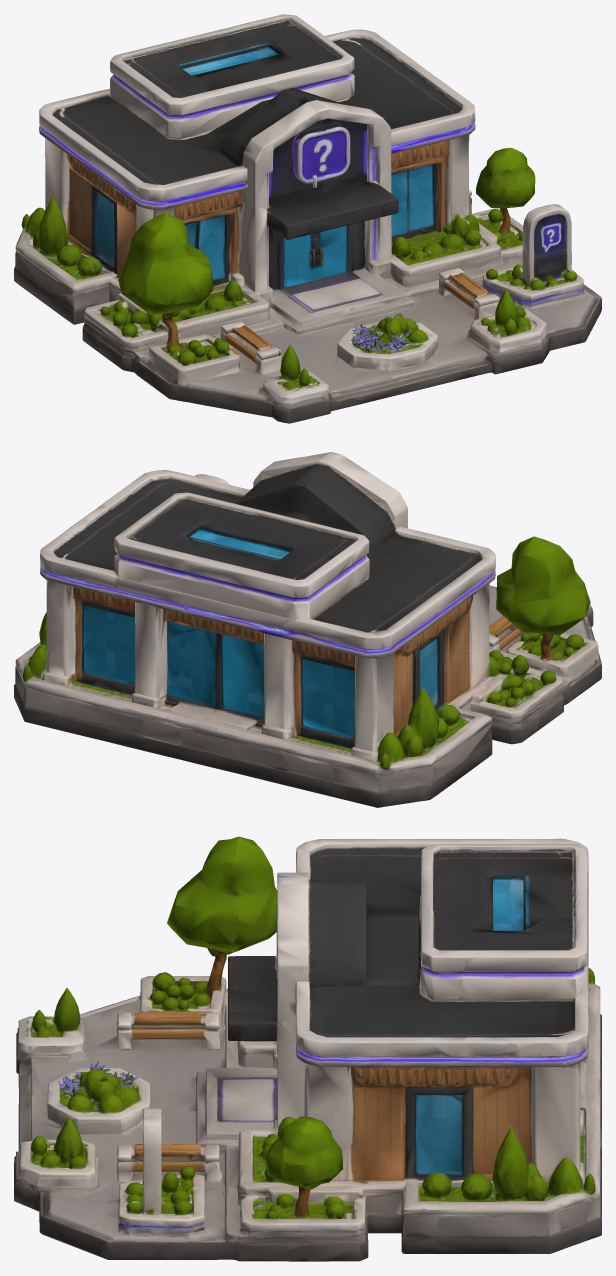
Rendered from question-hub.glb.
The picture shows the model from 3 angles, top to bottom: view 1: azimuth 30°, elevation 25°; view 2: azimuth 150°, elevation 25°; view 3: azimuth 270°, elevation 25°; orthographic projection. The views are drawn at different scales.
Size of the model in its own units: 1.9 by 0.8436 by 1.77.
Materials: 1 (1 with a texture image).
